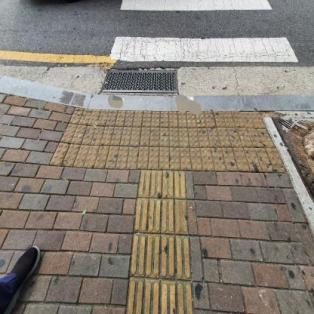Podoctatil: (43, 100, 287, 178), (123, 165, 202, 313)
